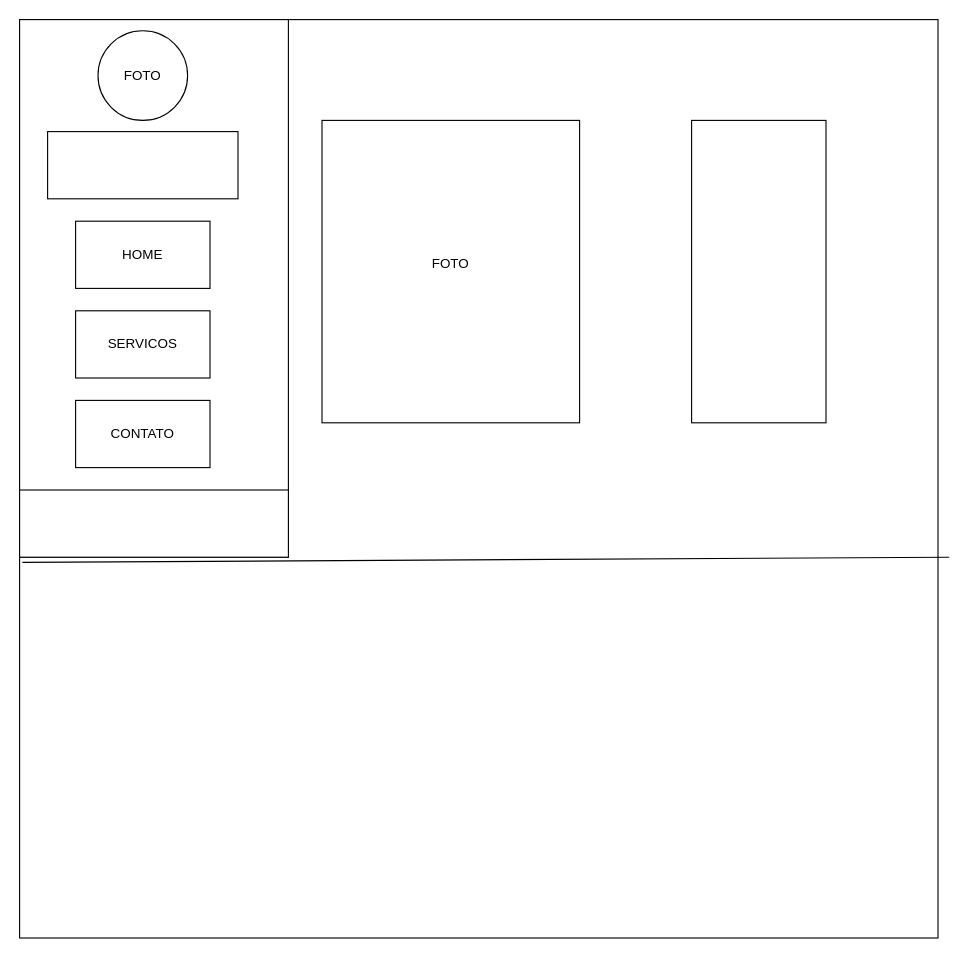
The diagram is 970 pixels wide and 958 high, and some of its shapes have lost their labels. Each missing label, with the box of its shape:
CONTATOS: (18, 489, 288, 557)
NOME: (46, 130, 238, 199)
TEXTO: (690, 119, 826, 423)
